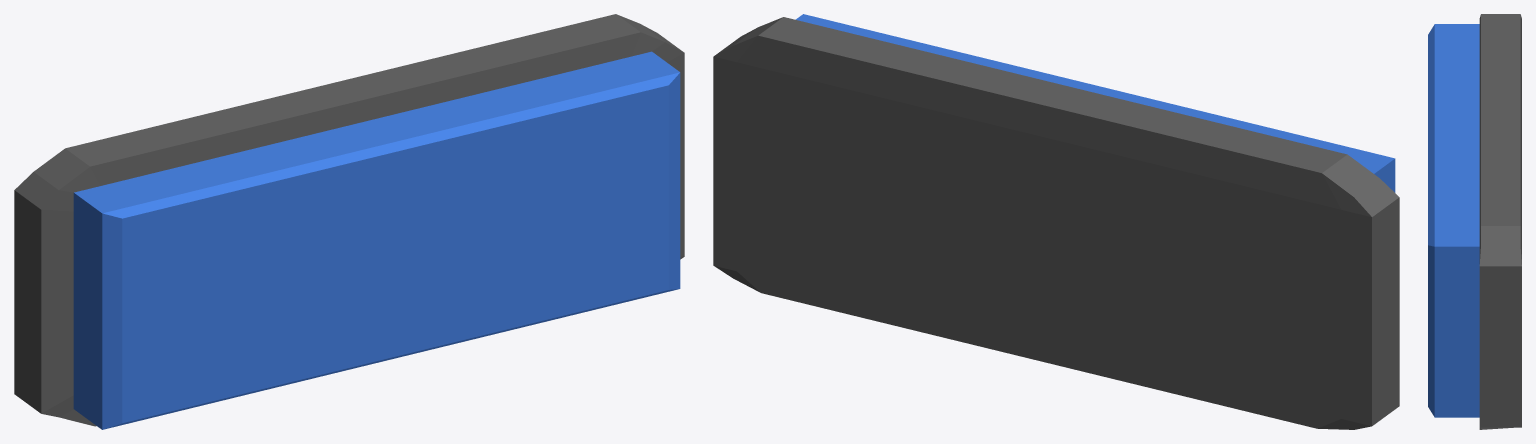
3 renders of one model, left to right at view 1: azimuth 30°, elevation 25°; view 2: azimuth 150°, elevation 25°; view 3: azimuth 270°, elevation 25°, orthographic. The views are drawn at different scales.
Visible parts, largest first — view 1: 平面.001, 平面; view 2: 平面, 平面.001; view 3: 平面.001, 平面.
Boxes of the visible parts, bbox=[...] form: 平面.001: bbox=[73, 51, 680, 429]; 平面: bbox=[14, 14, 684, 426]; 平面: bbox=[713, 17, 1399, 429]; 平面.001: bbox=[795, 14, 1395, 192]; 平面.001: bbox=[1428, 24, 1479, 417]; 平面: bbox=[1479, 14, 1521, 429].
Bounding box in the file's own units: 613 × 237 × 98.1.
